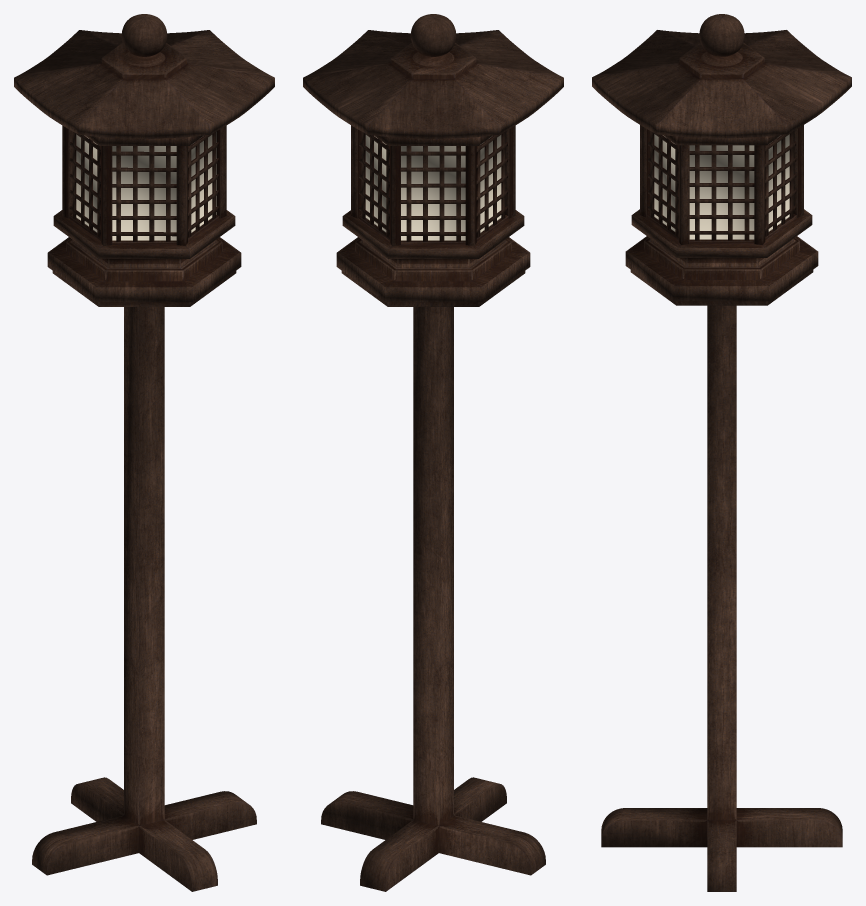
The model's file is lamp.glb.
3 renders of one model, left to right at view 1: azimuth 30°, elevation 25°; view 2: azimuth 150°, elevation 25°; view 3: azimuth 270°, elevation 25°, orthographic.
Parts seen in each view (by area): view 1: stand_high, roof_high, main_high, net_high.003, net_high.001, net_high.005, Sphere_high, support_high.001, support_high.004, support_high.002, support_high.003; view 2: stand_high, roof_high, main_high, net_high.004, net_high.001, net_high.002, Sphere_high, support_high.003, support_high.005, support_high, support_high.001; view 3: stand_high, roof_high, main_high, net_high, net_high.002, net_high.005, Sphere_high, support_high, support_high.002, support_high.004, support_high.005.
Part boxes in pixels (x1=…): stand_high: x1=32, y1=307, x2=256, y2=891; roof_high: x1=14, y1=30, x2=274, y2=138; main_high: x1=47, y1=132, x2=241, y2=306; net_high.003: x1=112, y1=146, x2=176, y2=241; net_high.001: x1=69, y1=131, x2=100, y2=237; net_high.005: x1=188, y1=132, x2=218, y2=237; Sphere_high: x1=121, y1=14, x2=167, y2=56; support_high.001: x1=101, y1=146, x2=112, y2=245; support_high.004: x1=176, y1=146, x2=187, y2=245; support_high.002: x1=216, y1=125, x2=226, y2=218; support_high.003: x1=62, y1=125, x2=72, y2=218; stand_high: x1=321, y1=307, x2=545, y2=891; roof_high: x1=303, y1=30, x2=563, y2=138; main_high: x1=336, y1=135, x2=530, y2=306; net_high.004: x1=401, y1=146, x2=465, y2=241; net_high.001: x1=476, y1=131, x2=507, y2=237; net_high.002: x1=359, y1=132, x2=389, y2=237; Sphere_high: x1=410, y1=14, x2=456, y2=56; support_high.003: x1=465, y1=146, x2=476, y2=245; support_high.005: x1=390, y1=146, x2=400, y2=245; support_high: x1=351, y1=125, x2=361, y2=218; support_high.001: x1=505, y1=125, x2=515, y2=218; stand_high: x1=601, y1=305, x2=842, y2=891; roof_high: x1=592, y1=30, x2=851, y2=138; main_high: x1=625, y1=134, x2=818, y2=305; net_high: x1=689, y1=145, x2=754, y2=240; net_high.002: x1=765, y1=130, x2=796, y2=236; net_high.005: x1=648, y1=131, x2=678, y2=236; Sphere_high: x1=699, y1=14, x2=744, y2=56; support_high: x1=754, y1=145, x2=765, y2=245; support_high.002: x1=678, y1=145, x2=689, y2=244; support_high.004: x1=640, y1=125, x2=650, y2=217; support_high.005: x1=793, y1=125, x2=803, y2=217.
Bounding box in the file's own units: 456 × 1716 × 491.
Materials: 1 (1 with a texture image).
